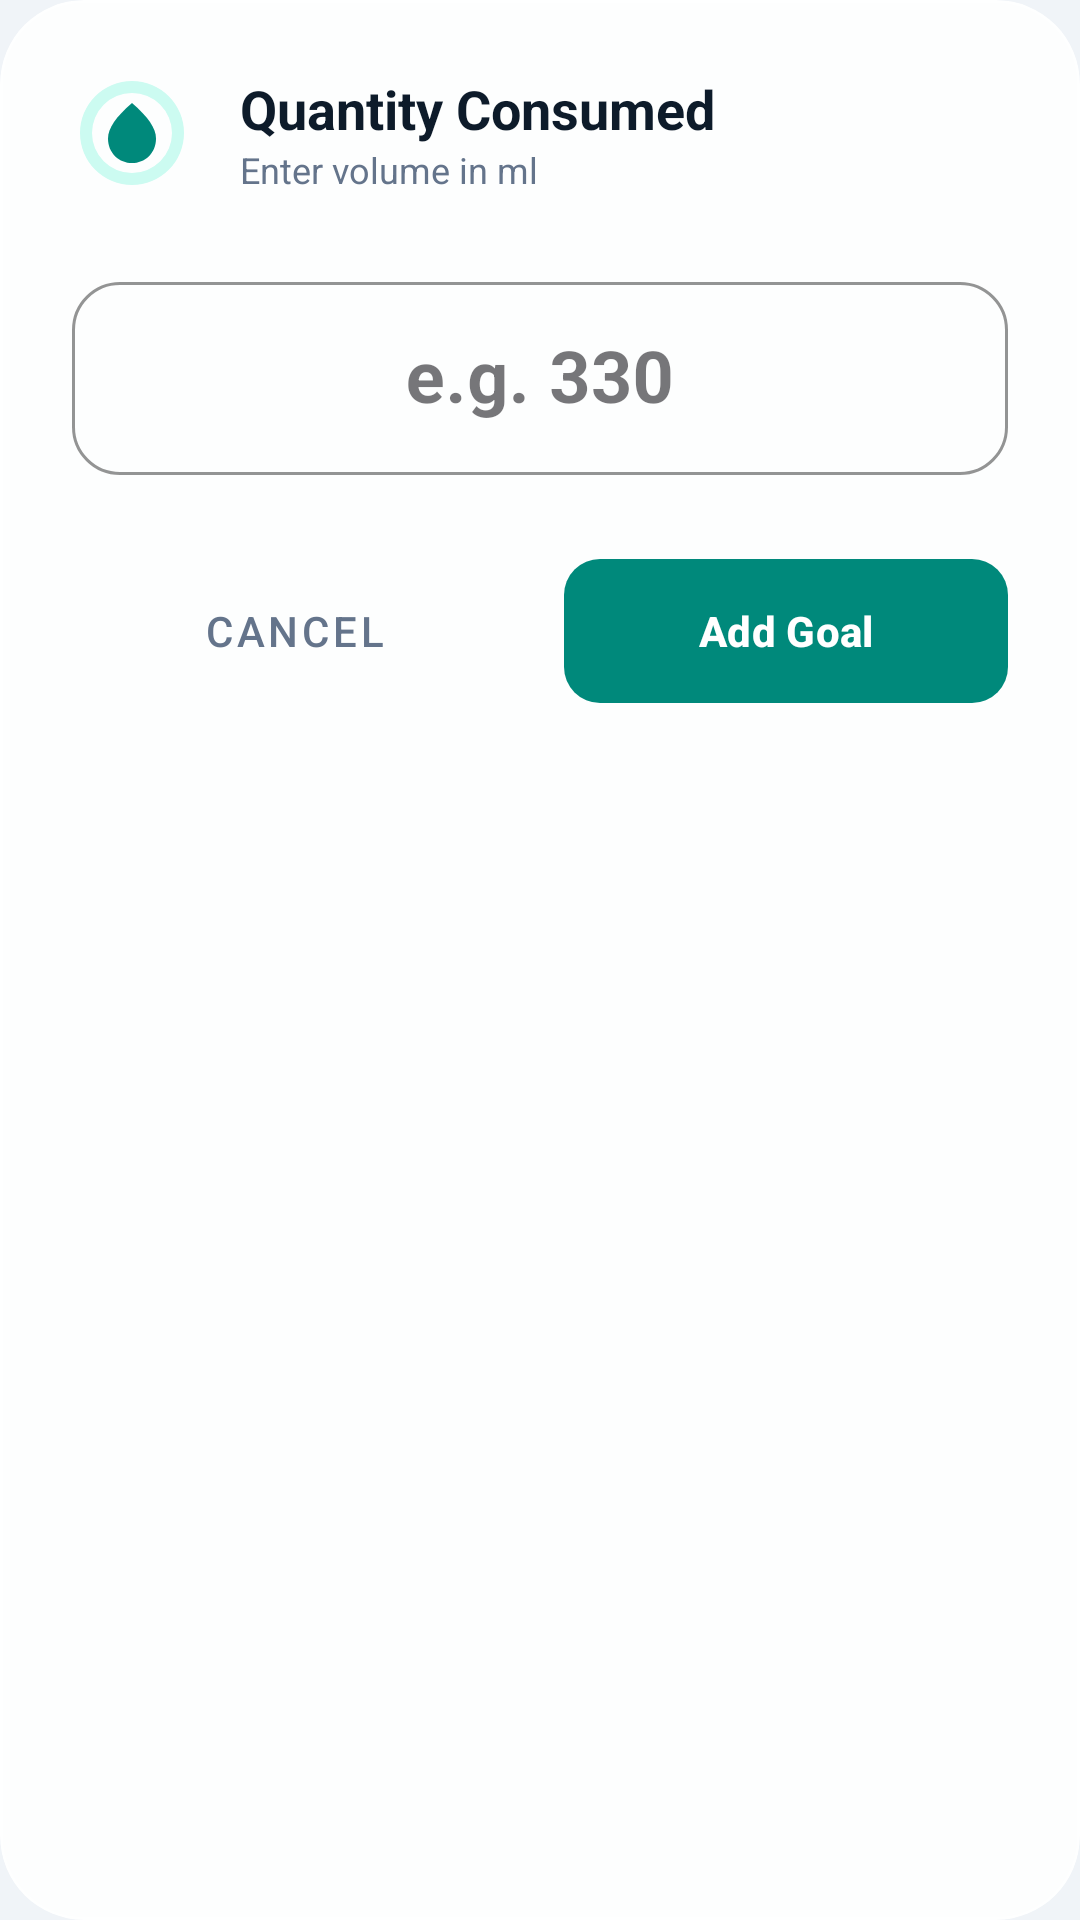

Screen size 1080px x 1920px. Icon name, then its box in pixels as box(x1, y1, x2, y2):
water drop: box(80, 81, 184, 185)
